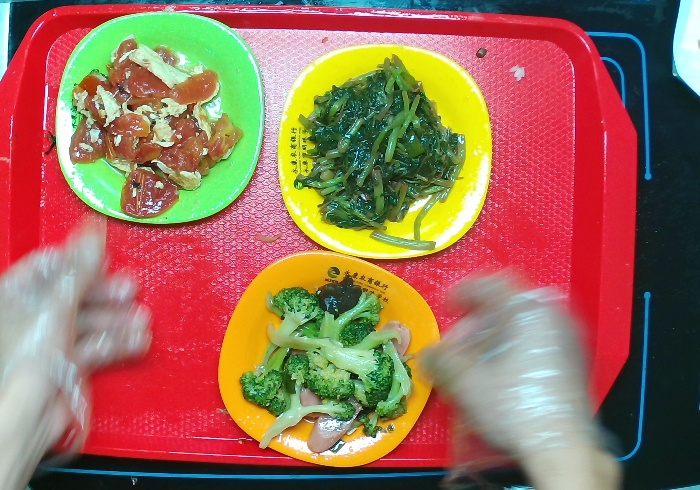YKMZ-Huang_Se_Fang_Die: (277, 36, 499, 266)
YKMZ-Ju_Se_Fang_Die: (221, 248, 444, 477)
YKMZ-Lv_Se_Fang_Die: (53, 13, 267, 234)
